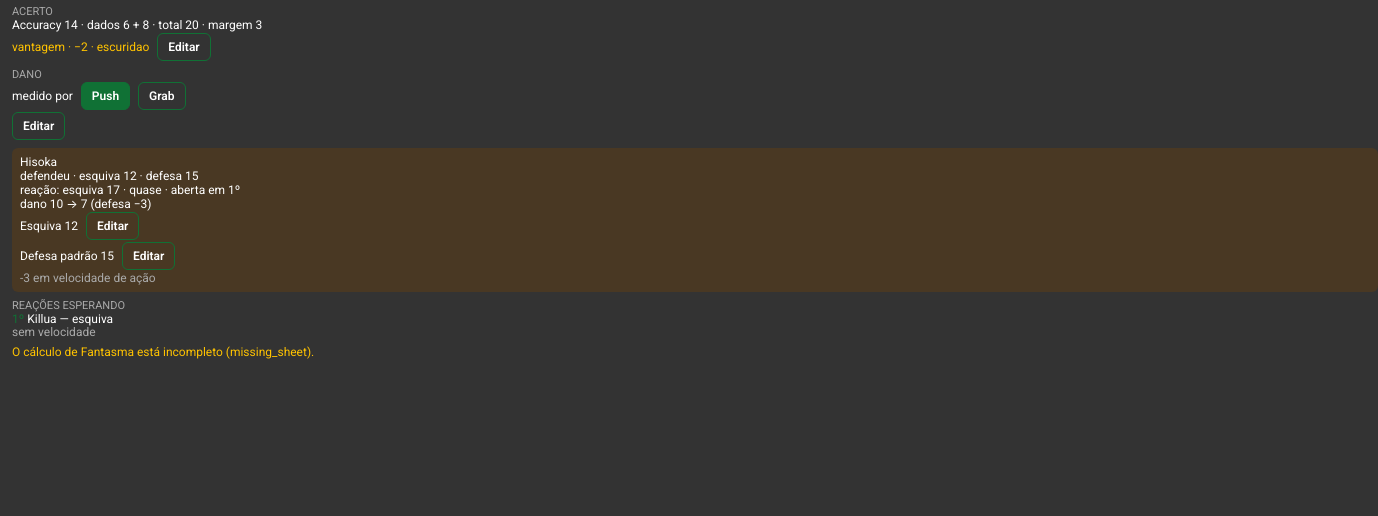
ResolutionDetails › edição do mestre (Fase 8) › o editor fecha quando a rolagem some do cálculo
The width and height of the screenshot is (1378, 516).
Click the button with aria-label "Editar Esquiva de Hisoka" at (113, 226), box [86,212,139,240]
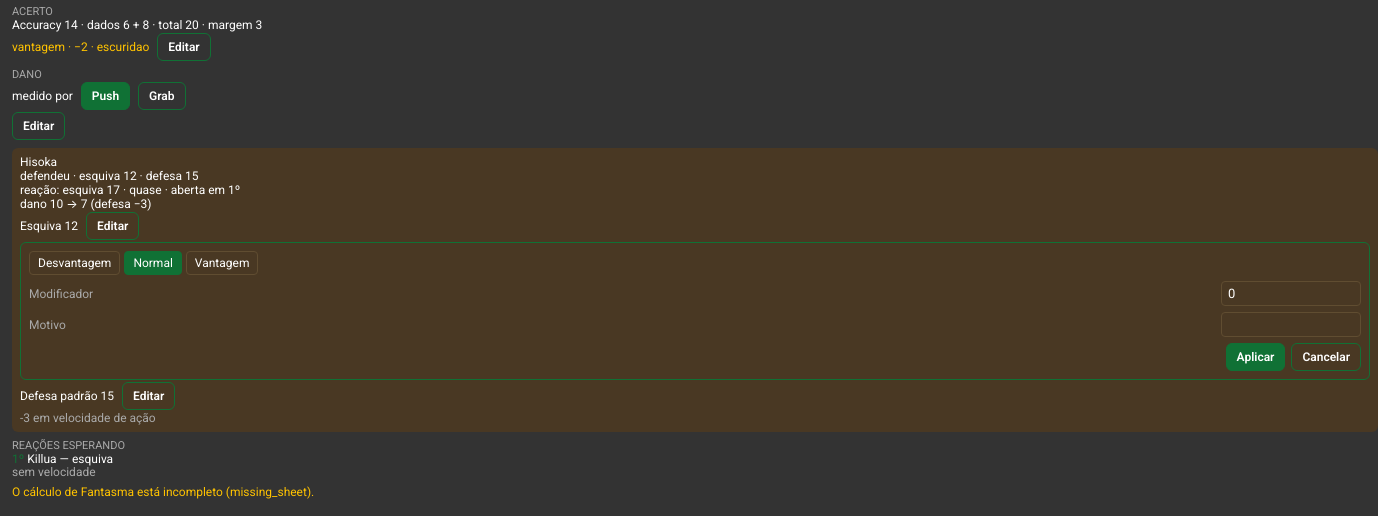
Now the button "Aplicar" is shown, box [1226,343,1285,371]
